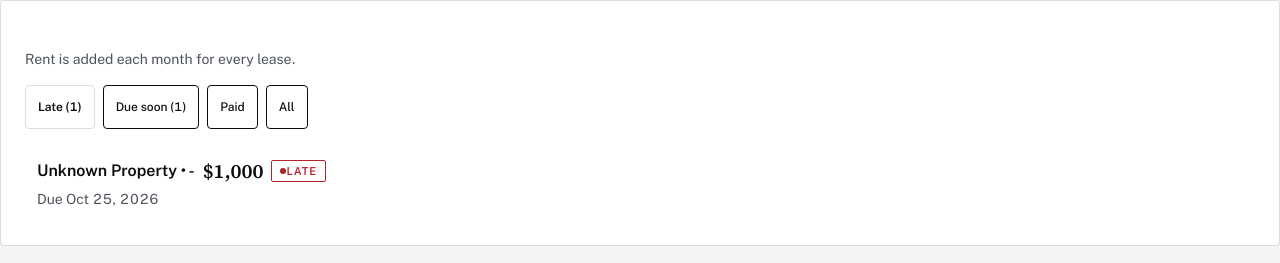
it: ChargesSection › keeps pending rent in Due soon through grace and late rent in Late
Expected: the element with id "charge-past-grace" is shown, x1=37 y1=157 x2=326 y2=207
Click the button "Due soon (1)" at (151, 107), box x1=103 y1=85 x2=199 y2=129
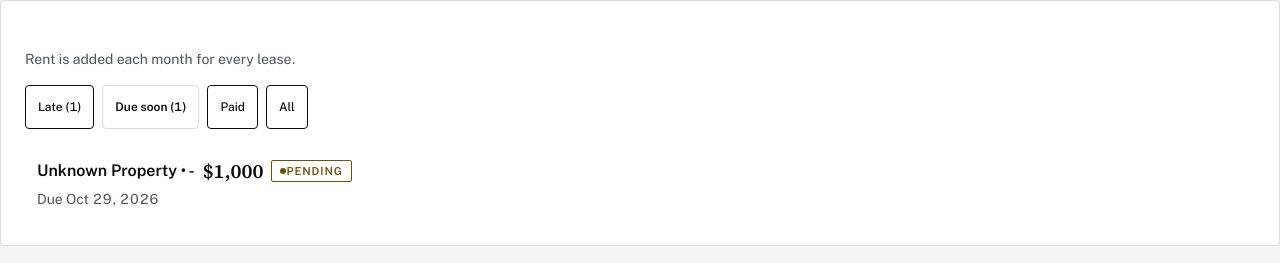
Expected: the element with id "charge-inside-grace" is shown, x1=37 y1=157 x2=352 y2=207
Expected: the element with id "charge-past-grace" is gone
